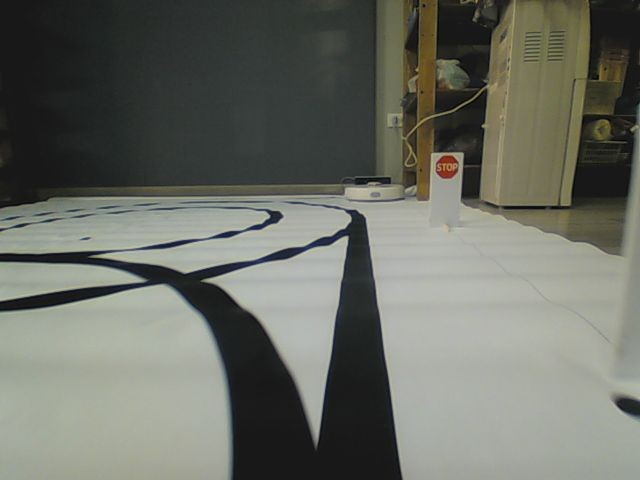Stop: (434, 155, 461, 180)
